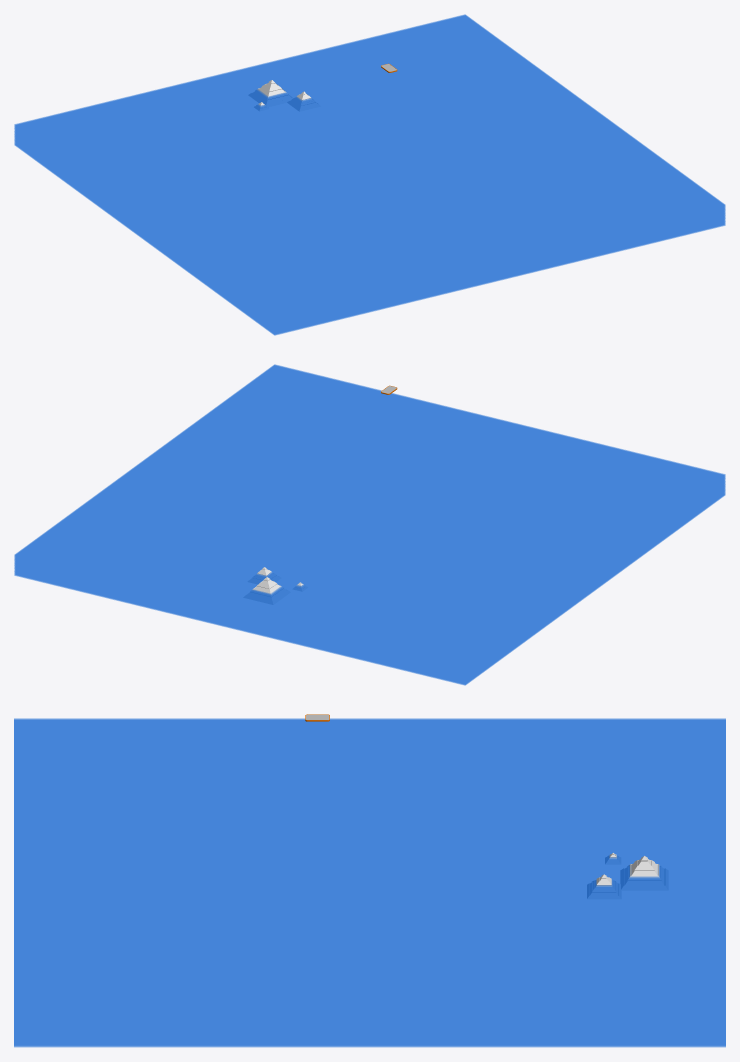
File: Platform_level.fbx
3 views of the same model, one above another, from view 1: azimuth 30°, elevation 25°; view 2: azimuth 150°, elevation 25°; view 3: azimuth 270°, elevation 25° (orthographic). The views are drawn at different scales.
Parts seen in each view (by area): view 1: Plane.001, Cube.001; view 2: Plane.001, Cube.001; view 3: Plane.001, Cube.001, Cube.002.
Part boxes in pixels (box(x1,y1,x2,y2)): Plane.001: box(14, 14, 725, 335); Cube.001: box(249, 80, 292, 106); Plane.001: box(14, 364, 725, 685); Cube.001: box(243, 577, 290, 604); Plane.001: box(14, 718, 725, 1047); Cube.001: box(620, 856, 668, 890); Cube.002: box(587, 874, 621, 898).
Bounding box in the file's own units: 20000 × 5569 × 20000.
